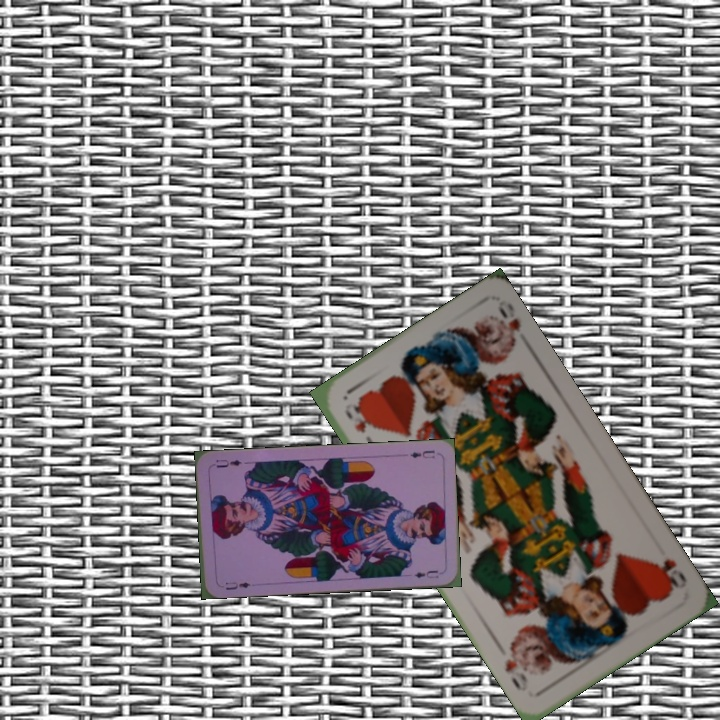EU: (221, 578, 253, 593), (406, 446, 437, 461)
HO: (340, 399, 378, 451), (651, 555, 690, 593)
